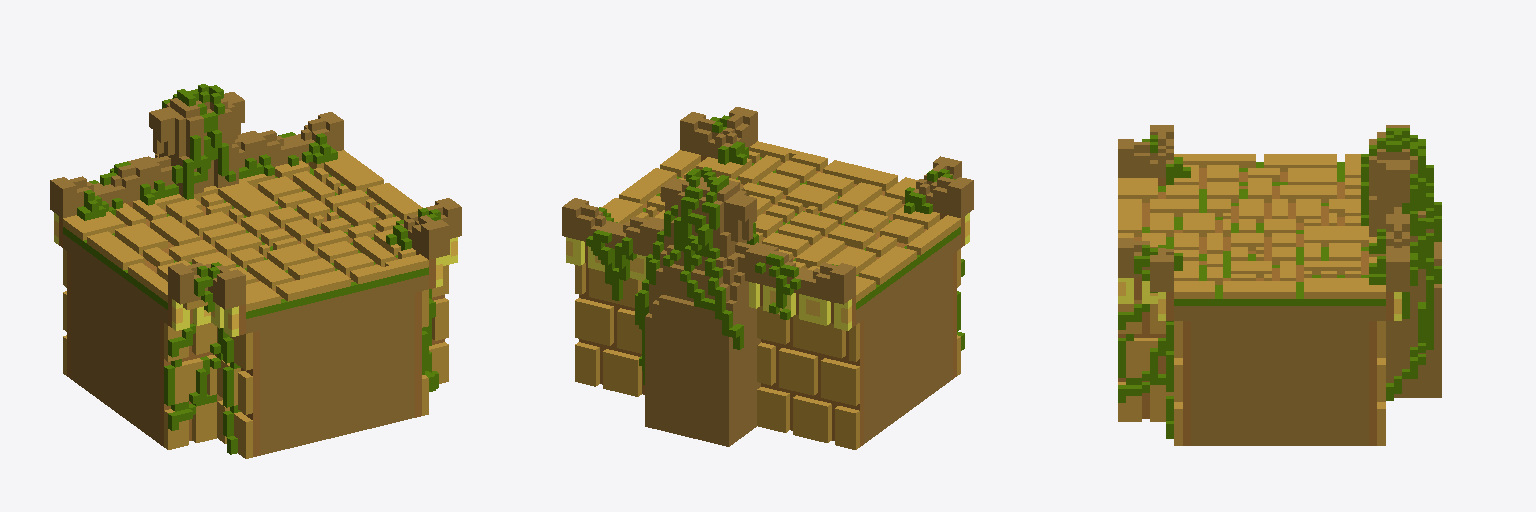
3 renders of one model, left to right at view 1: azimuth 30°, elevation 25°; view 2: azimuth 150°, elevation 25°; view 3: azimuth 270°, elevation 25°, orthographic.
Size of the model in its own units: 40 by 33 by 40.
1 materials, 1 textured.